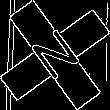N_SE: (24, 23, 86, 87)
